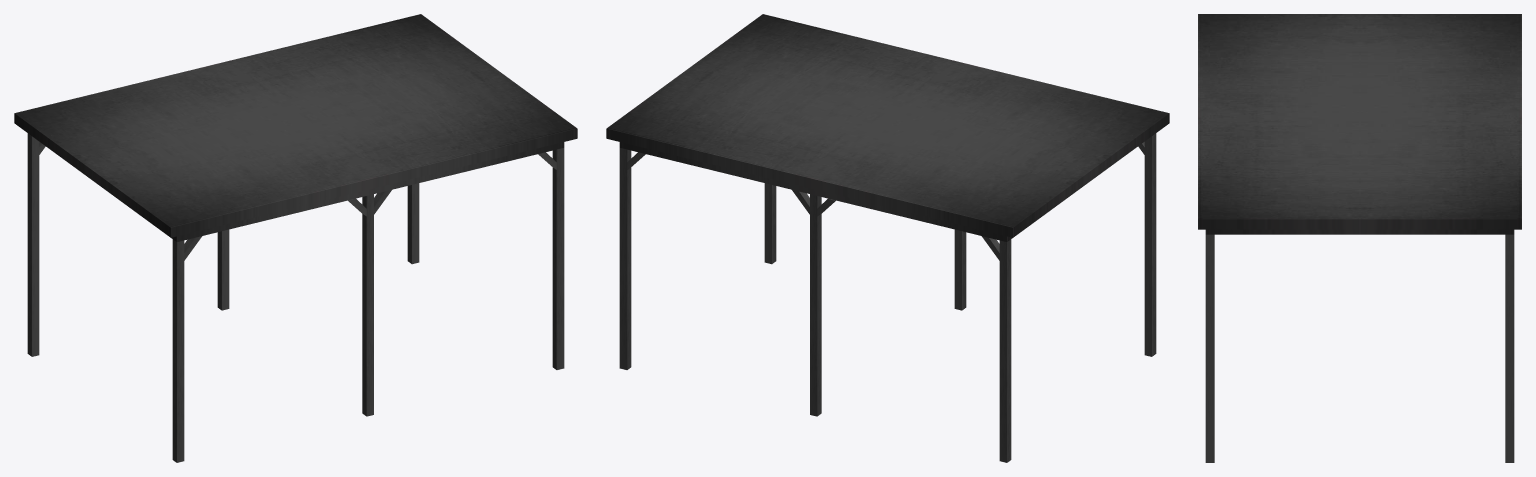
File: TONY.glb
The picture shows the model from 3 angles, left to right: view 1: azimuth 30°, elevation 25°; view 2: azimuth 150°, elevation 25°; view 3: azimuth 270°, elevation 25°; orthographic projection. The views are drawn at different scales.
Visible parts, largest first — view 1: Plane.001; view 2: Plane.001; view 3: Plane.001.
Part boxes in pixels (x1,y1,x2,y2): Plane.001: (14,14,577,462); Plane.001: (606,14,1169,462); Plane.001: (1198,14,1521,462).
Size of the model in its own units: 2.12 by 1.19 by 1.41.
1 material, 1 textured.
